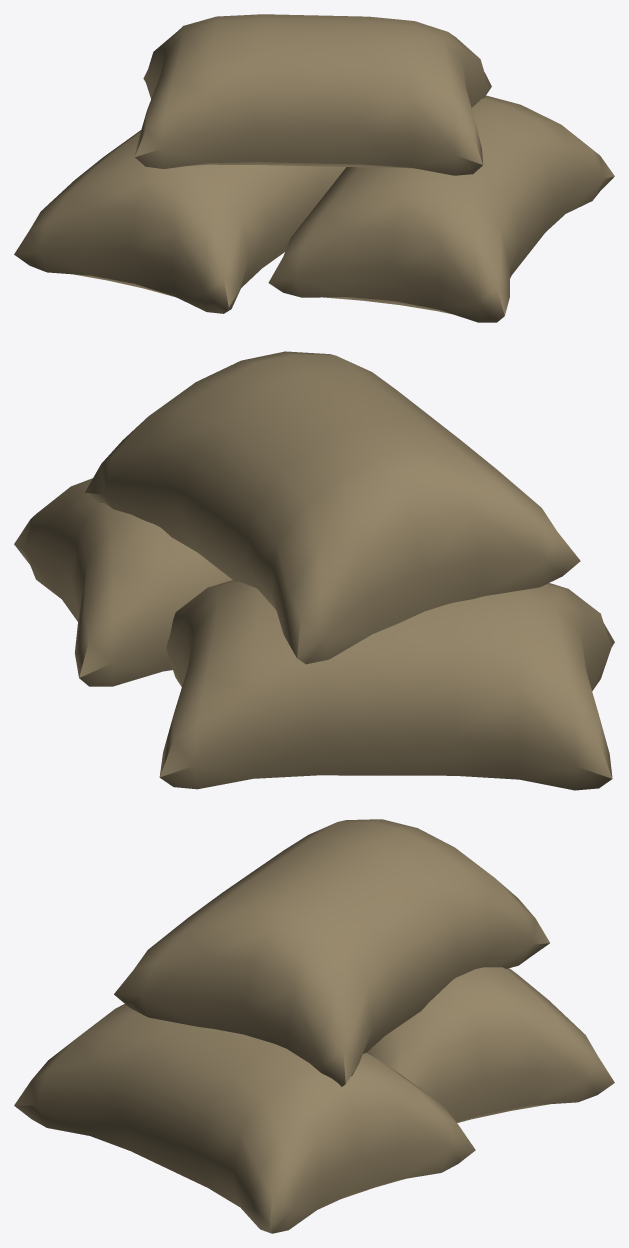
The model's file is Bags.glb.
The picture shows the model from 3 angles, top to bottom: view 1: azimuth 30°, elevation 25°; view 2: azimuth 150°, elevation 25°; view 3: azimuth 270°, elevation 25°; orthographic projection. The views are drawn at different scales.
Parts seen in each view (by area): view 1: Bags; view 2: Bags; view 3: Bags.
Boxes of the visible parts, bbox=[...] form: Bags: bbox=[14, 14, 614, 322]; Bags: bbox=[14, 351, 614, 790]; Bags: bbox=[14, 819, 614, 1233].
Size of the model in its own units: 0.2697 by 0.1071 by 0.2392.
